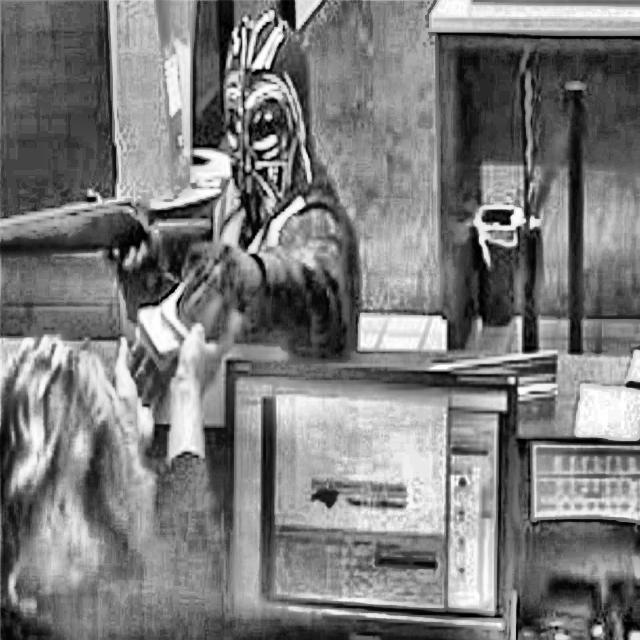robbery: (0, 2, 371, 639)
